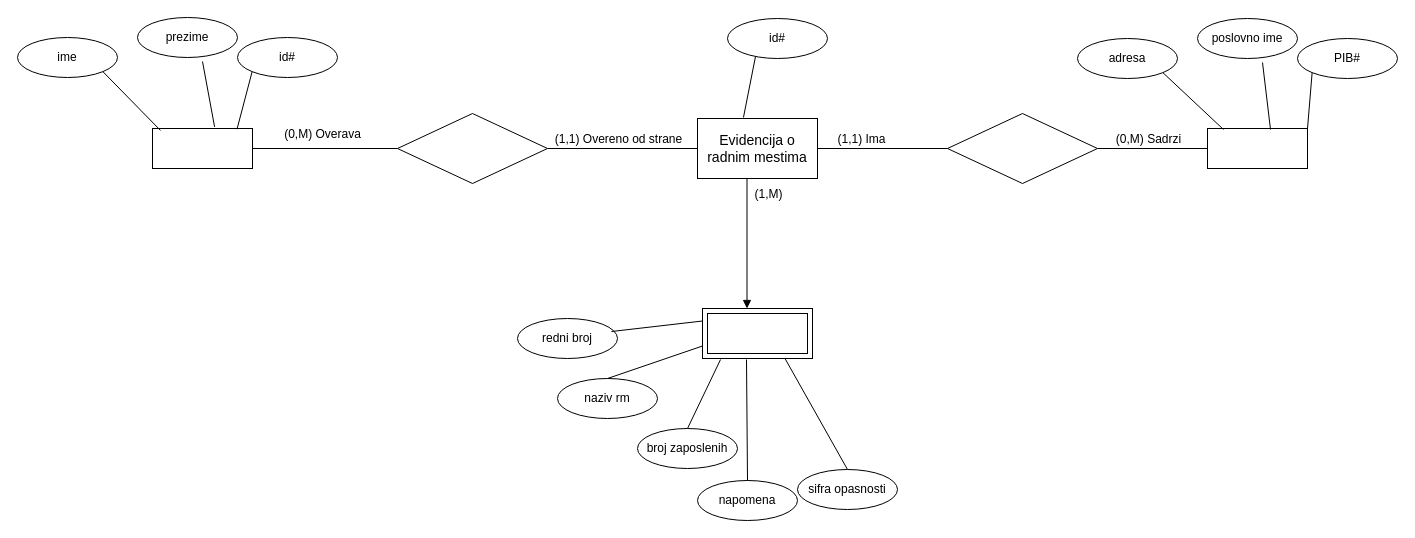
The diagram is 1415 pixels wide and 538 high, and some of its shapes have lost their labels. The centre of each missing label's shape, as x and y in pixels:
Lice za bezbednost: the point at 202,148
opasnost na radnim mestima: the point at 1022,148
Poslodavac: the point at 1257,148
Stavka evidencije: the point at 757,333
Vodjenje evidencije: the point at 472,148
